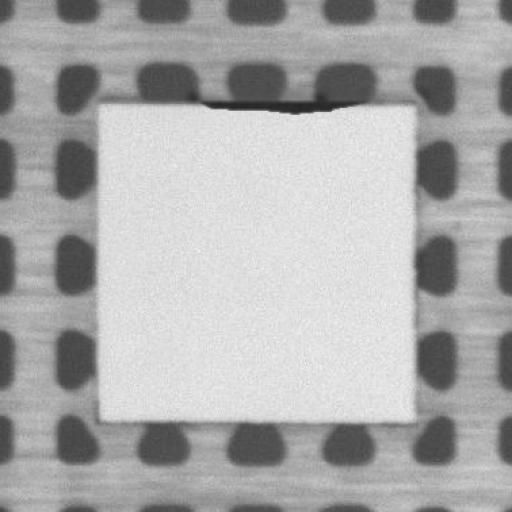DIE_BROKEN: (198, 96, 364, 115)
